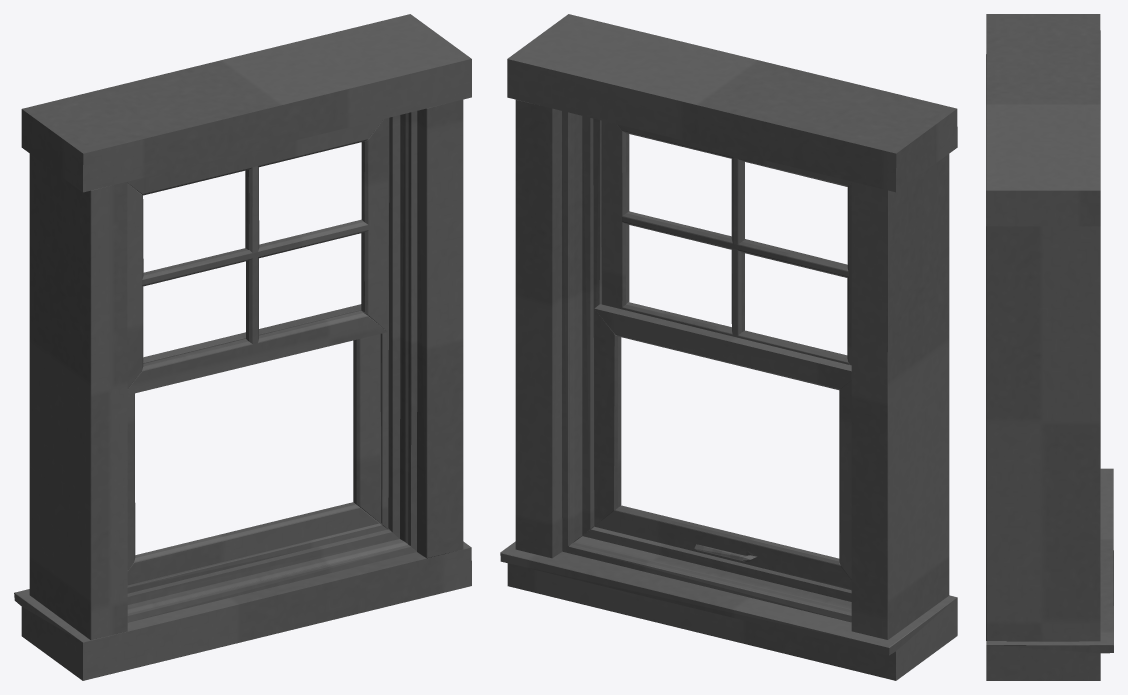
File: SM_BigHouse_Window_B_01.glb
3 renders of one model, left to right at view 1: azimuth 30°, elevation 25°; view 2: azimuth 150°, elevation 25°; view 3: azimuth 270°, elevation 25°, orthographic. The views are drawn at different scales.
Visible parts, largest first — view 1: SM_BigHouse_Window_B_01; view 2: SM_BigHouse_Window_B_01; view 3: SM_BigHouse_Window_B_01.
Part boxes in pixels (x1,y1,x2,y2): SM_BigHouse_Window_B_01: (14,14,471,680); SM_BigHouse_Window_B_01: (500,14,957,680); SM_BigHouse_Window_B_01: (986,14,1113,680).
Size of the model in its own units: 95.07 by 123 by 29.05.
1 material, 1 textured.
